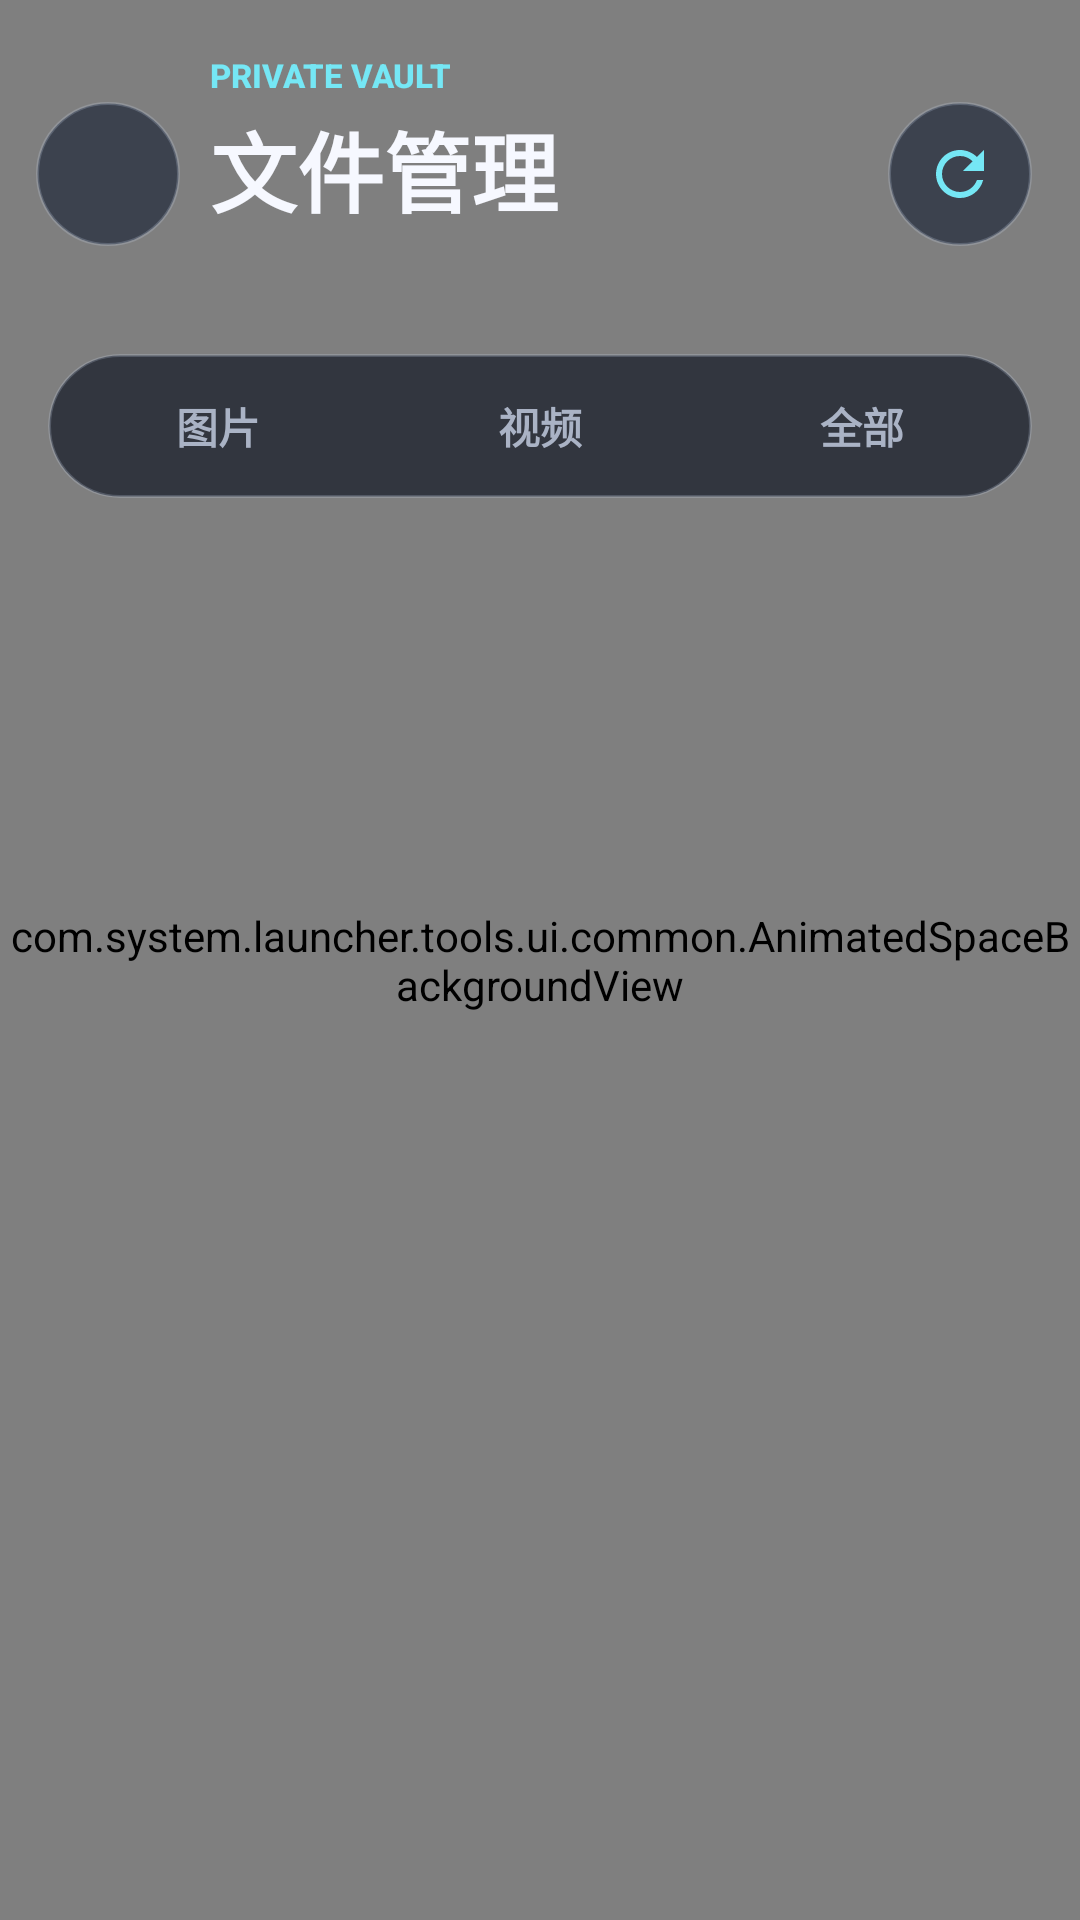

Named icons in this screenshot (1080w x 1920h) and their centers, (x,y):
刷新: (959,174)
